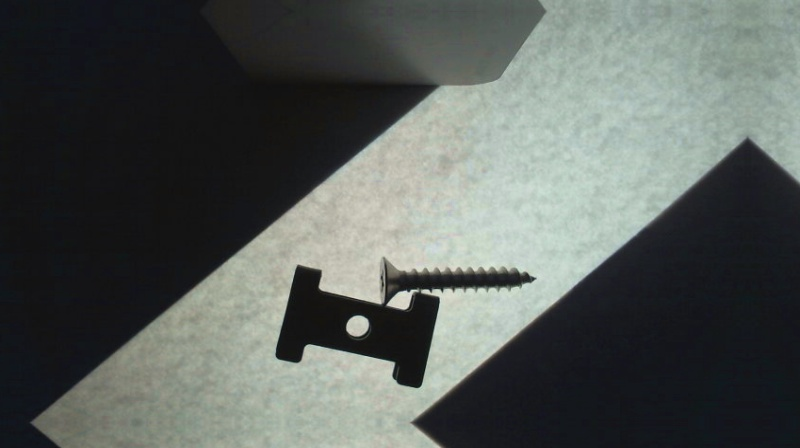O002: (274, 262, 439, 389)
S001: (377, 256, 539, 306)
